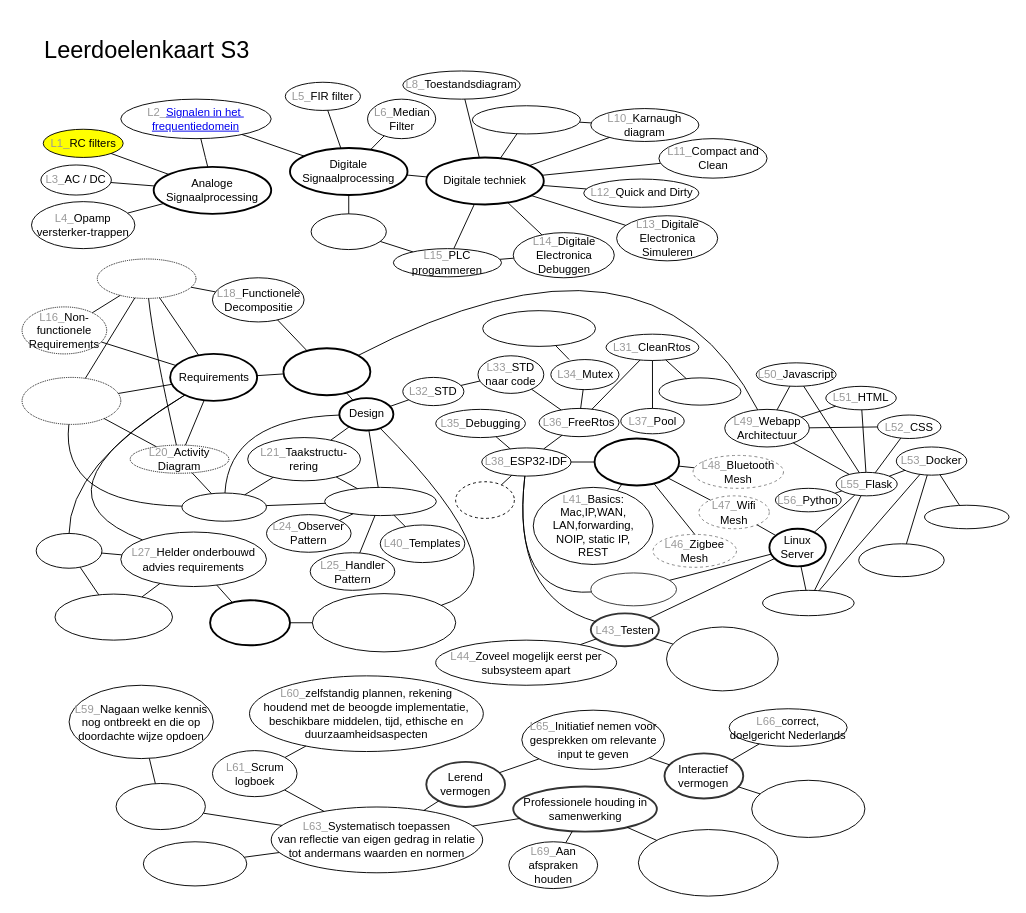
The diagram is 1026 pixels wide and 913 high, and some of its shapes have lost their labels. Each missing label, with the box of its shape:
Adviseren: (209, 599, 290, 646)
L17_ Functionele Requirements: (96, 258, 196, 298)
L19_ UC diagram, UC beschrijving: (21, 376, 121, 424)
L22_ Object Model: (181, 492, 266, 521)
L23_ Klassediagram: (324, 486, 436, 516)
L26_ Key driver chart: (35, 533, 102, 568)
L28_ Geprioriteerde key drivers: (54, 593, 172, 640)
L29_ Degelijk en helder gedocumenteerd, goed overdraagbaar design: (311, 593, 456, 652)
L30_ concurrency pc: (482, 310, 595, 346)
L38_ Waitables: (658, 377, 741, 405)
L39_ Mesh update: (455, 481, 514, 518)
L42_ Debuggen: (590, 572, 677, 606)
L45_ Helder gedocumenteerd, reproduceerbaar, volgens testplan: (666, 626, 778, 691)
L54_ composer: (924, 504, 1009, 529)
L57_ MongoDB: (762, 589, 854, 616)
L58_ reverse proxy: (858, 543, 944, 577)
L62_ Persoonlijk logboek: (115, 783, 205, 830)
L64_ Eigen handelen zo nodig aanpassen: (142, 841, 247, 886)
L67_ Luisteren, vragen adequaat beantwoorden: (751, 779, 865, 837)
L68_ Respectvolle toon naar medestudenten en docenten: (637, 829, 778, 896)
L7_ PID regeling: (310, 213, 386, 250)
L9_ Boolse Logica: (471, 105, 580, 134)
Networking: (593, 437, 680, 486)
Software Architecture: (282, 347, 371, 396)
